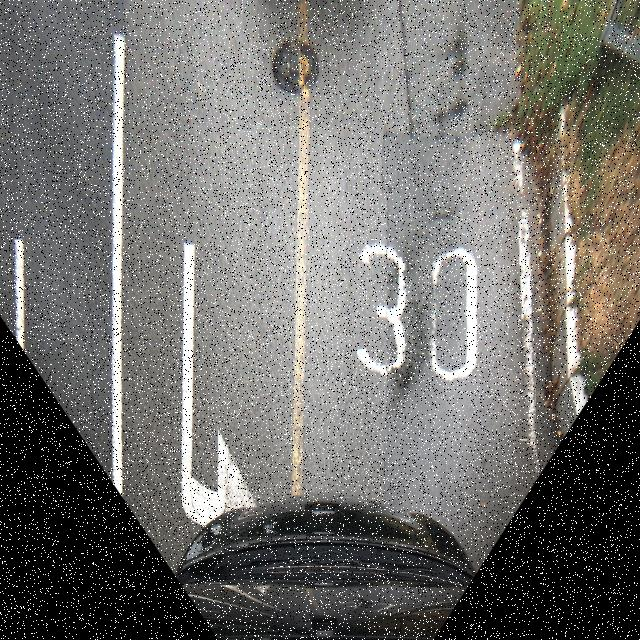30limit: (306, 193, 536, 439)
